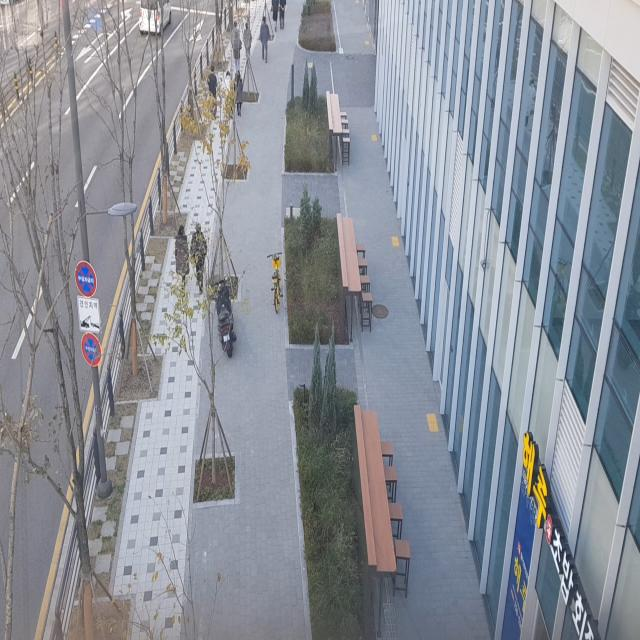Car: (133, 0, 176, 44)
